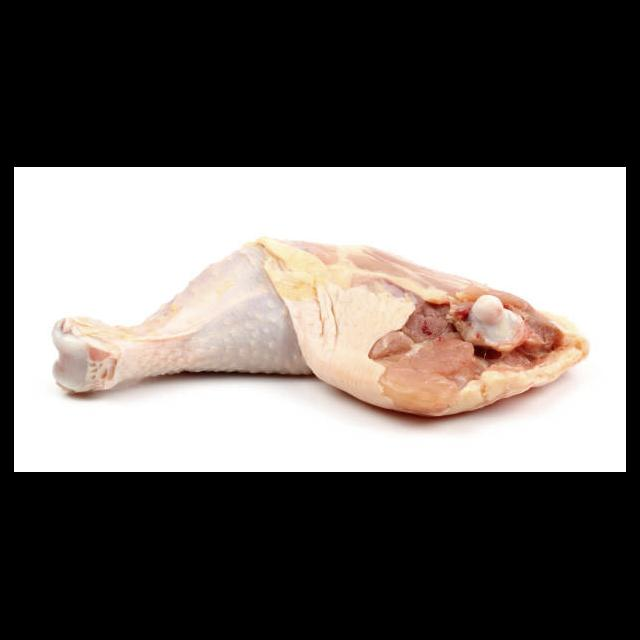chicken: (50, 238, 590, 420)
